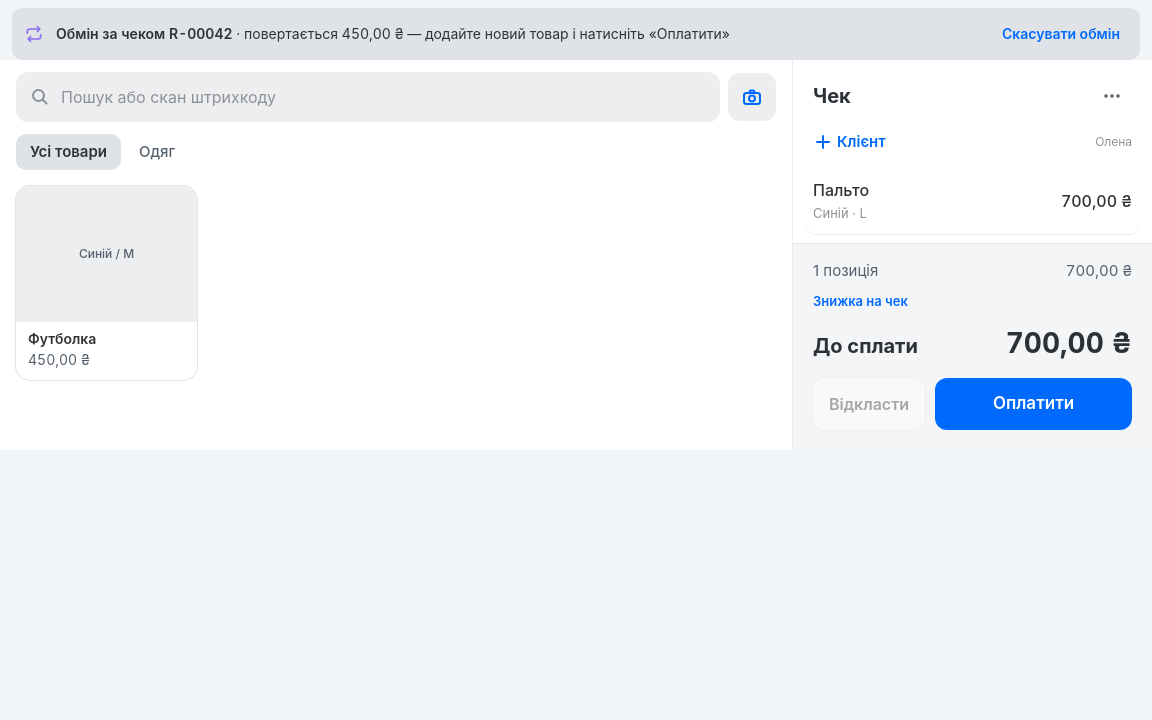
Test: RegisterPage — the sale half of an exchange › re-sends the very same keys after a lost answer, so the server replays instead of selling twice
Expected: the element with test id "exchange-strip" is shown, [12,8,1140,60]
Click the button "Оплатити": coordinates (1034, 404) [935,378,1132,430]
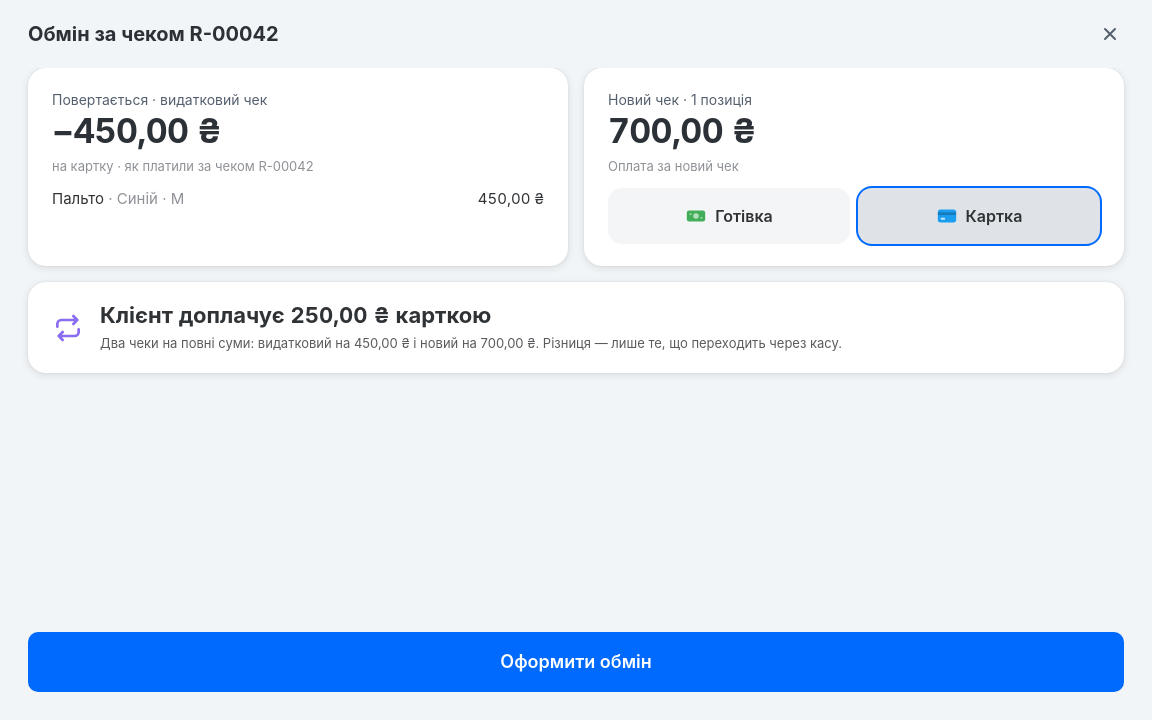
Click the button "Оформити обмін": coordinates (576, 662) [28,632,1124,692]
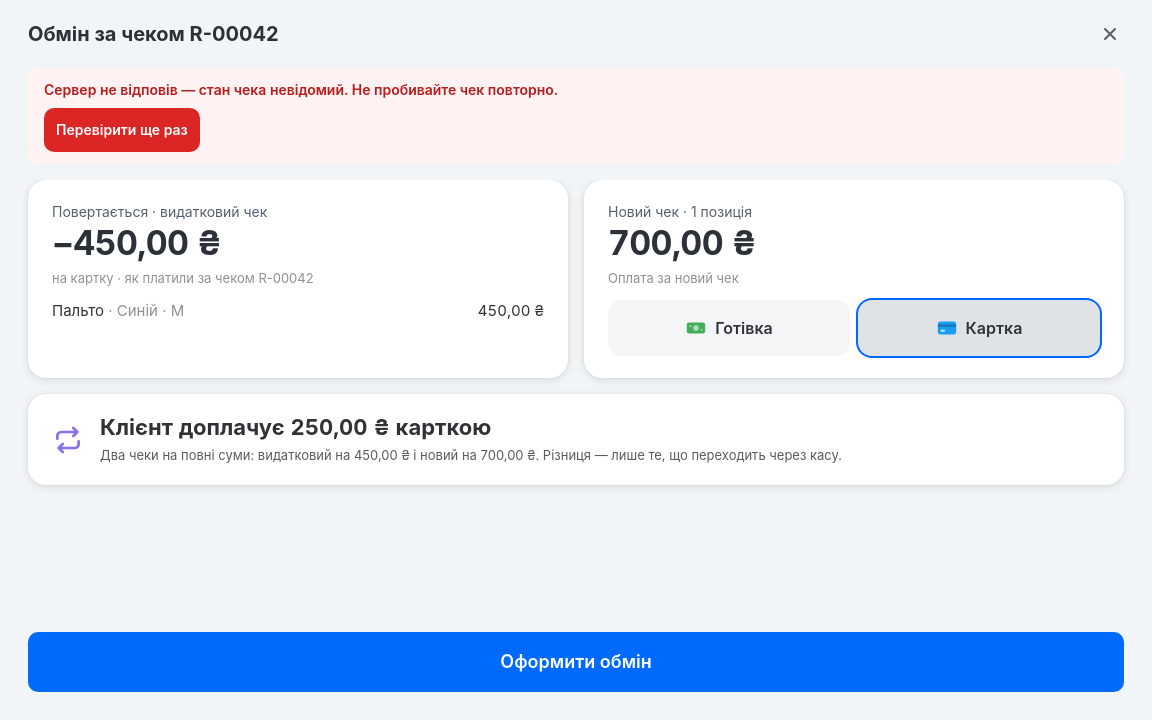
Expected: the message shows "стан чека невідомий", [44,81,558,98]
Click the button "Перевірити ще раз": coordinates (122, 130) [44,108,200,152]
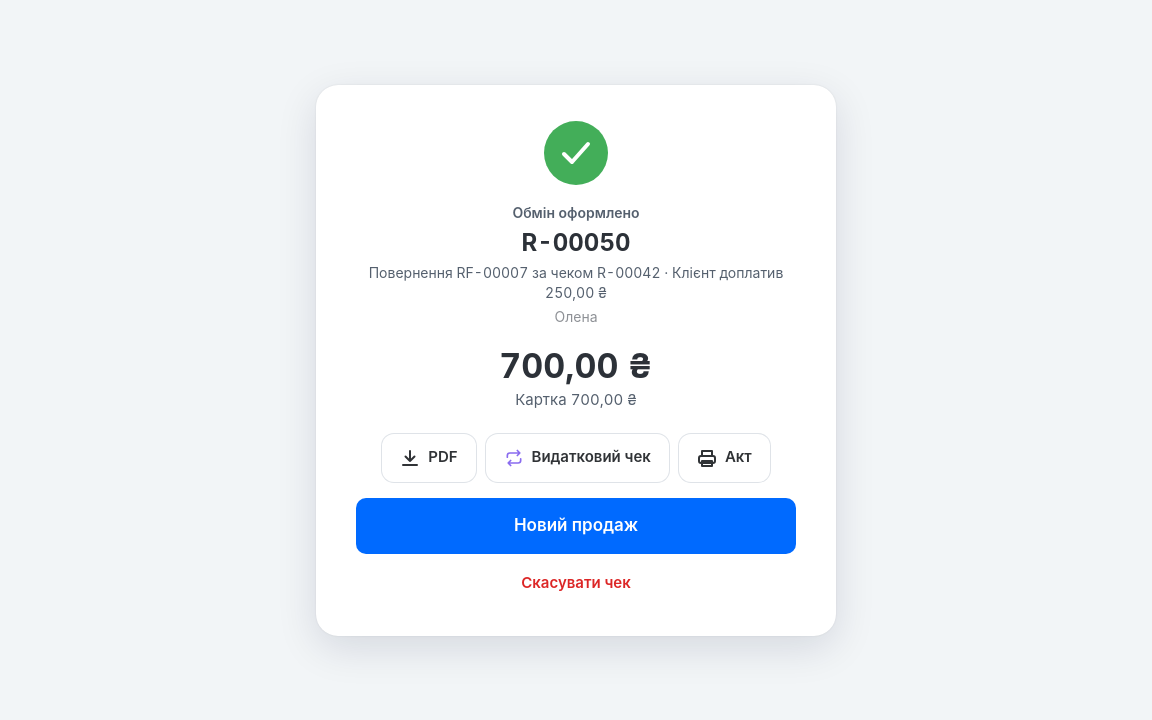
Expected: the text "Обмін оформлено" is shown, [512,202,640,222]
